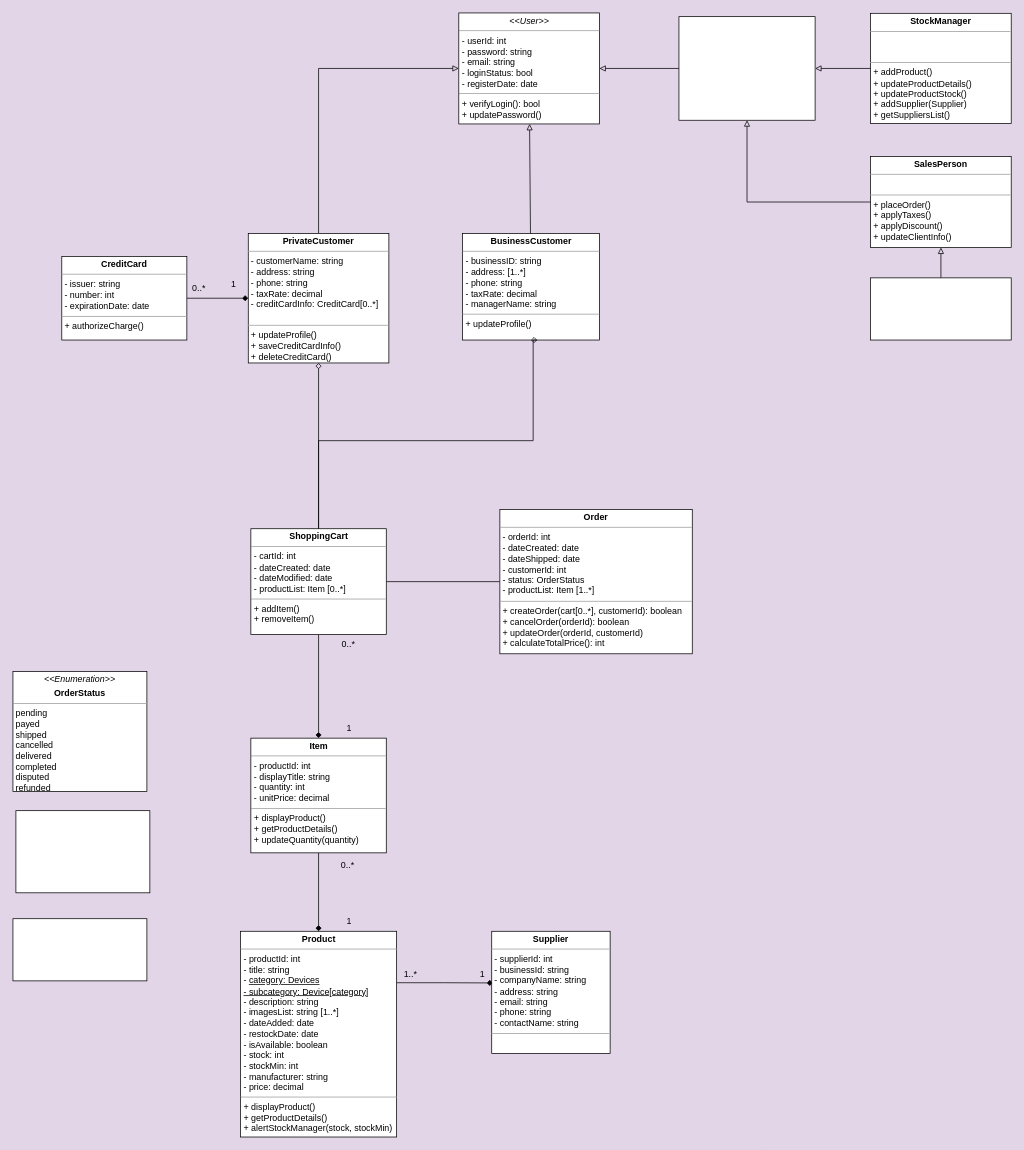
Some shapes in this 1024 by 1150 pixel diagram are drawn without their labels. Here are the shapes that lost their labels. From the top down, the box of each, then its label:
(678, 16, 815, 120): <<Employee>> - name: String - address: String - phone: String
(870, 277, 1011, 340): BusinessSalesPerson + registerBusinessUser()
(15, 810, 150, 893): <<Enumeration>> Devices computers smartphones wearables smart home devices
(12, 918, 147, 981): <<Enumeration>> Computers laptops desktops
